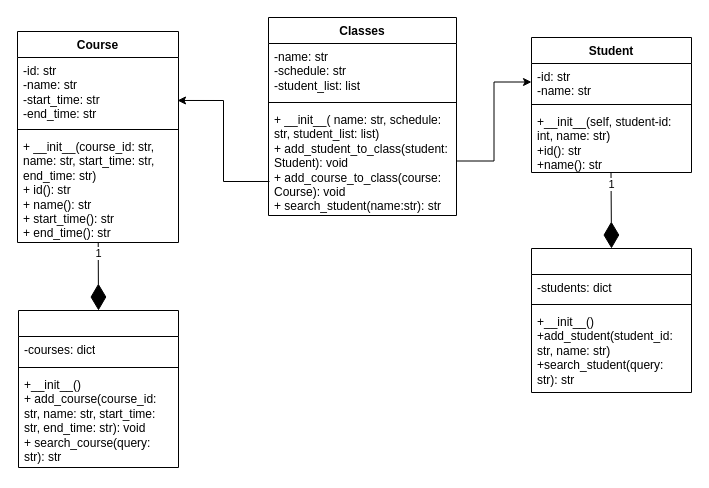
Image size: 709x488. Some labels were removed from this diagram. Here are the shapes that lost their labels. From the top down, the box of each, then its label:
(530, 248, 692, 392): StudentDirectory
(18, 310, 178, 468): Course Directory
